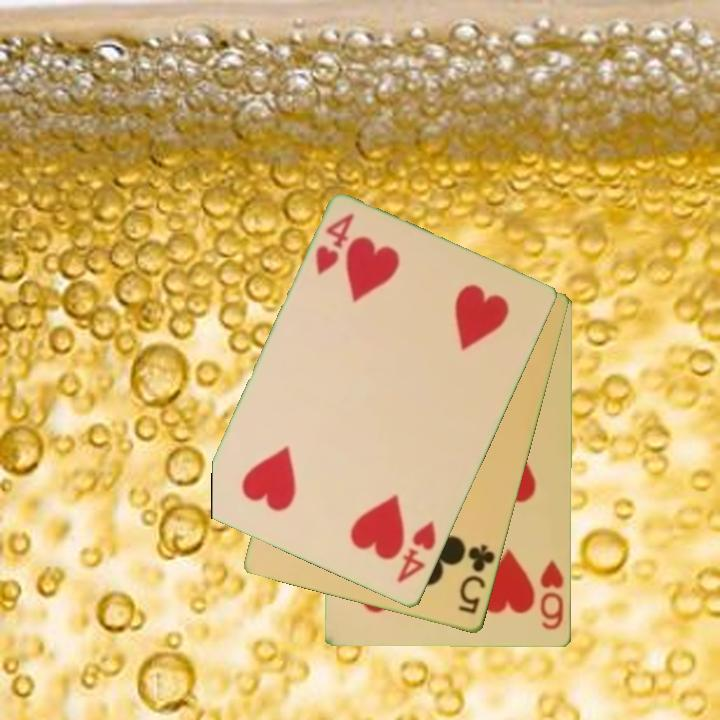4h: (393, 517, 439, 586), (312, 210, 358, 279)
5c: (455, 541, 498, 618)
6h: (537, 557, 567, 633)
